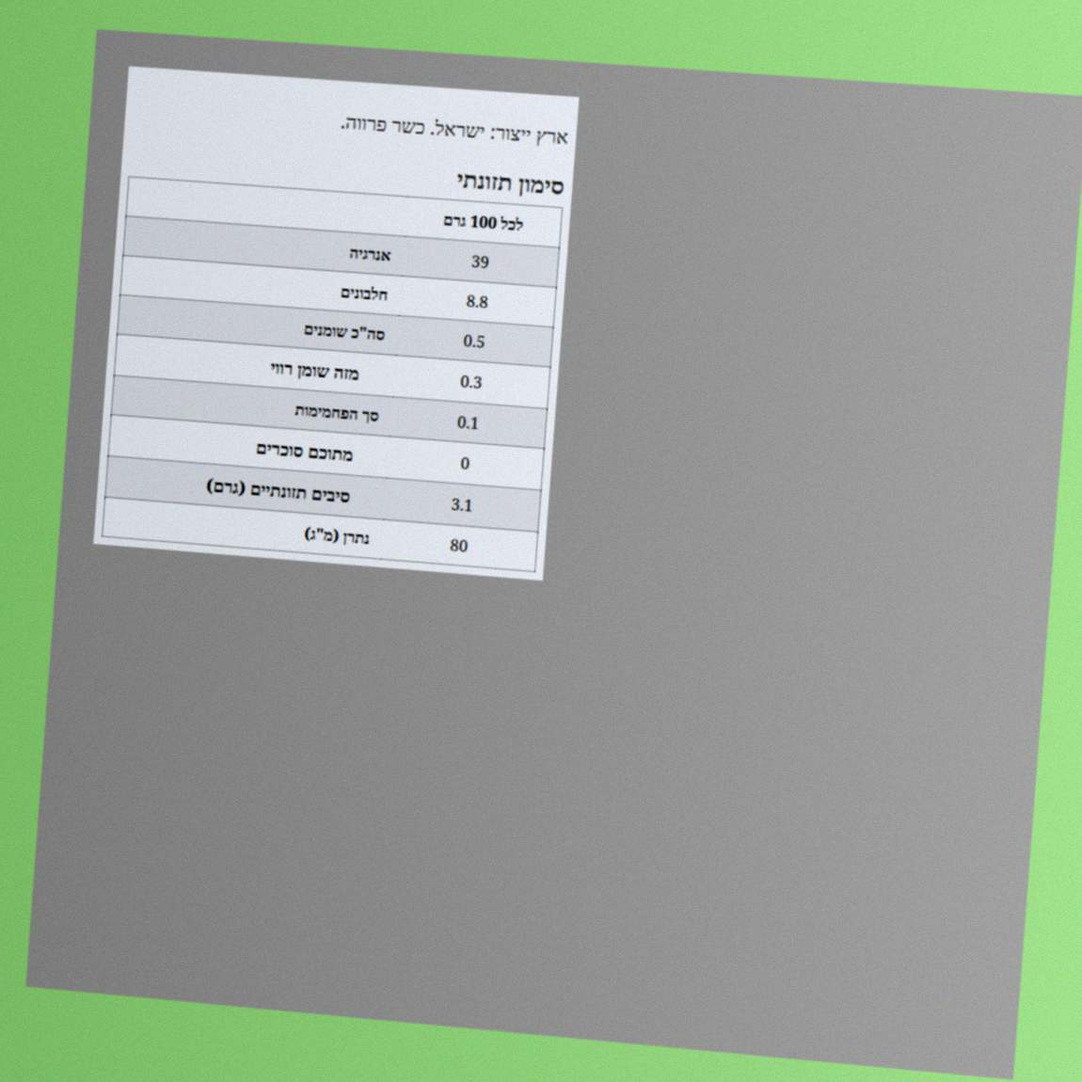carbs: (454, 408, 483, 437)
energy: (468, 248, 493, 276)
fat: (460, 327, 489, 356)
protein: (463, 287, 492, 316)
